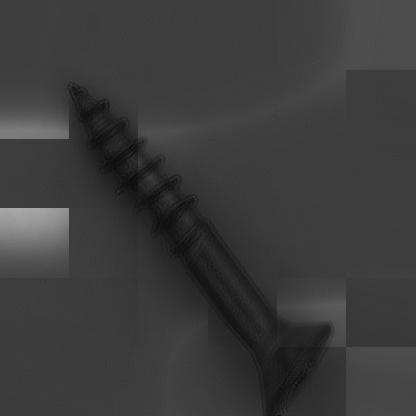metal: (67, 81, 336, 416)
